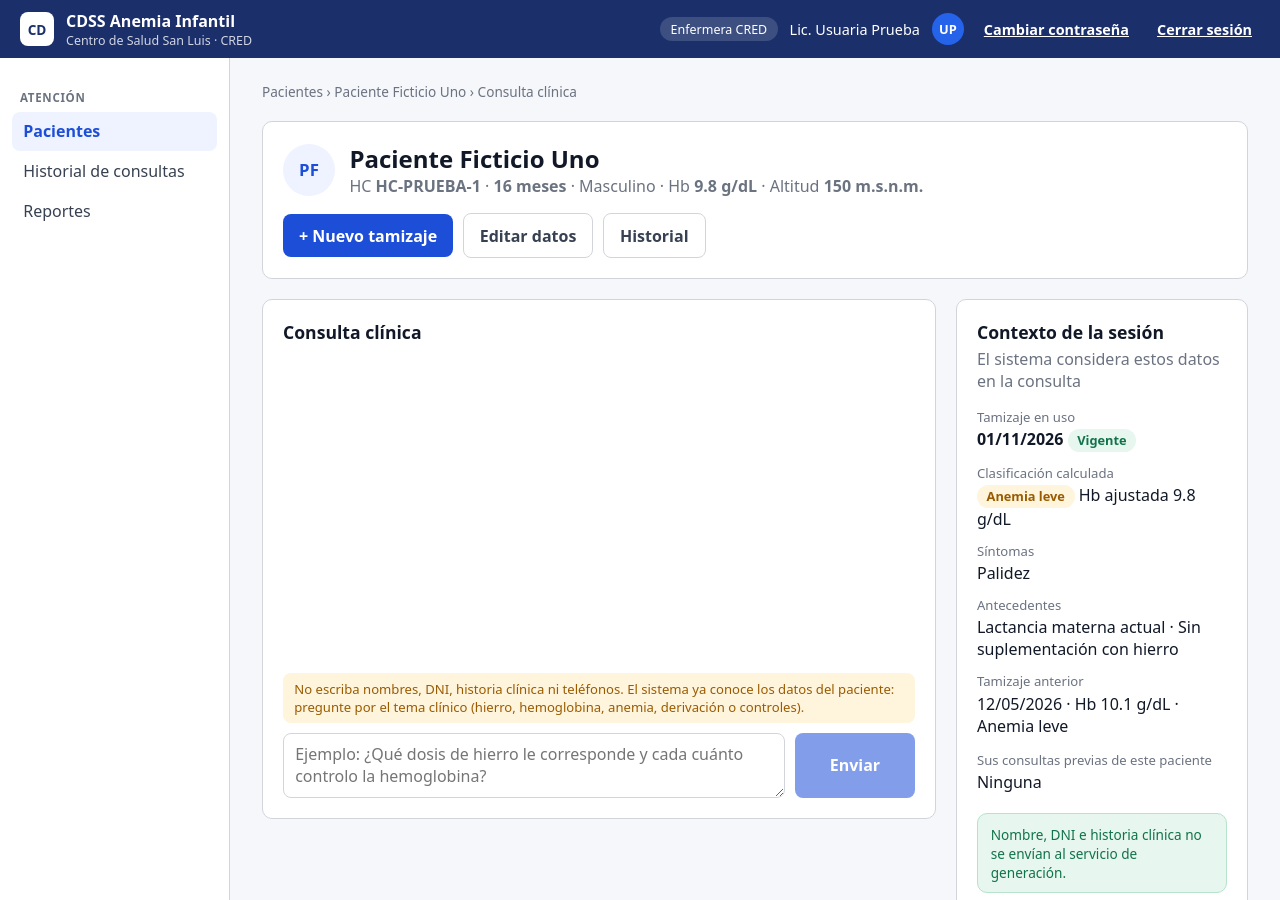
M04 · Consulta clínica › un 403 antes del stream muestra el mensaje del backend
Replace the text in the text box named "Consulta sobre el paciente" with "¿Qué dosis de hierro corresponde según su hemoglobina?": (534, 765) [283,733,785,798]
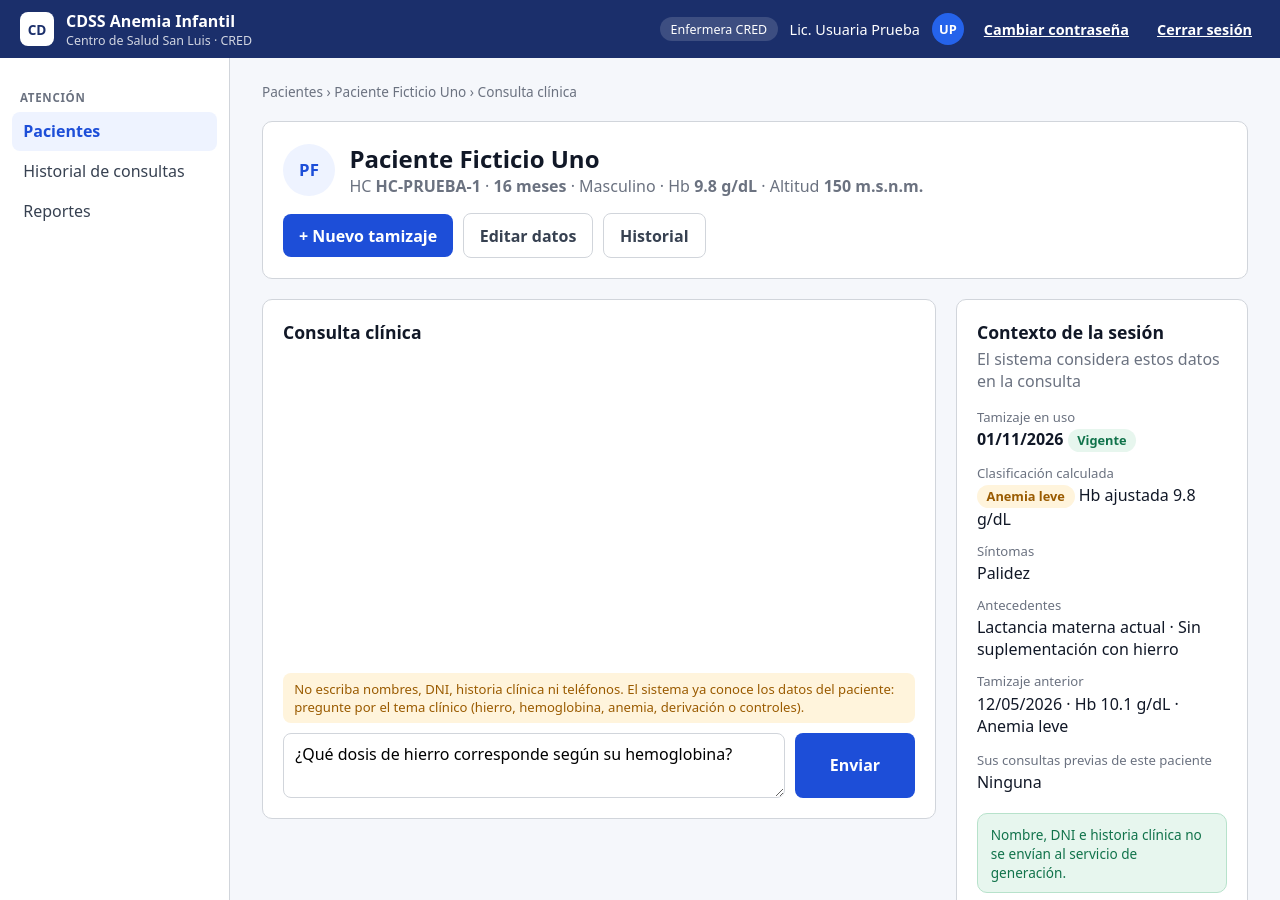
Click the button "Enviar": (855, 765) [795,733,915,798]
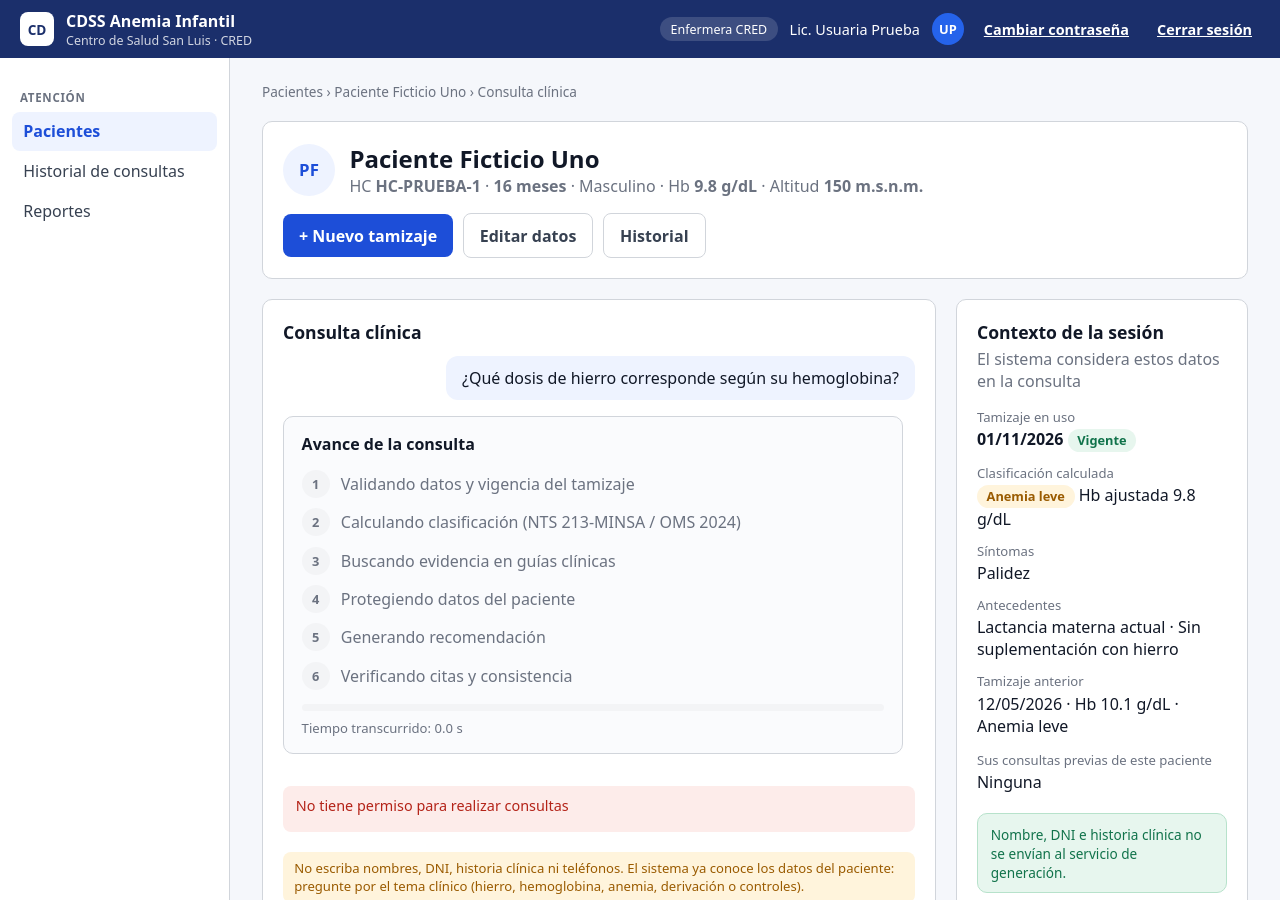
expect the text "No tiene permiso para realizar consultas" is shown: met, box [296,796,569,815]
